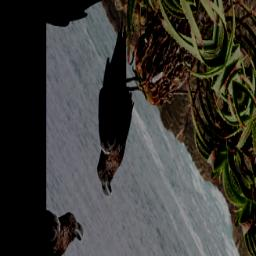Crow: (62, 16, 169, 206)
